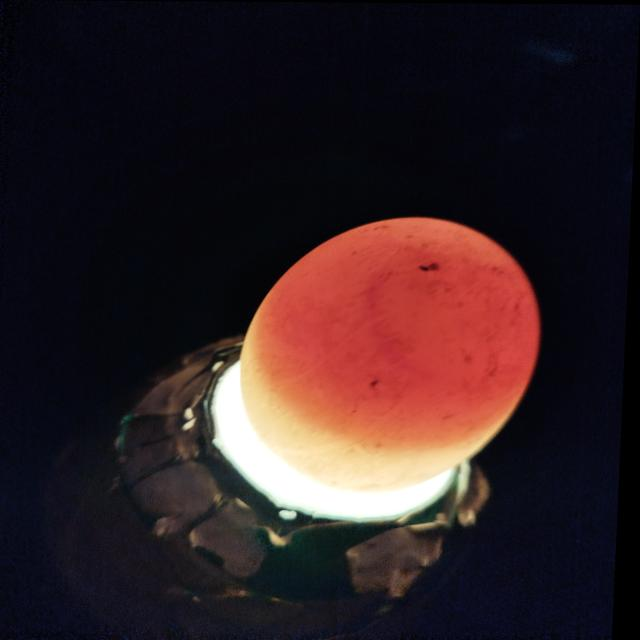Gema Quebrada: (256, 219, 540, 450)
